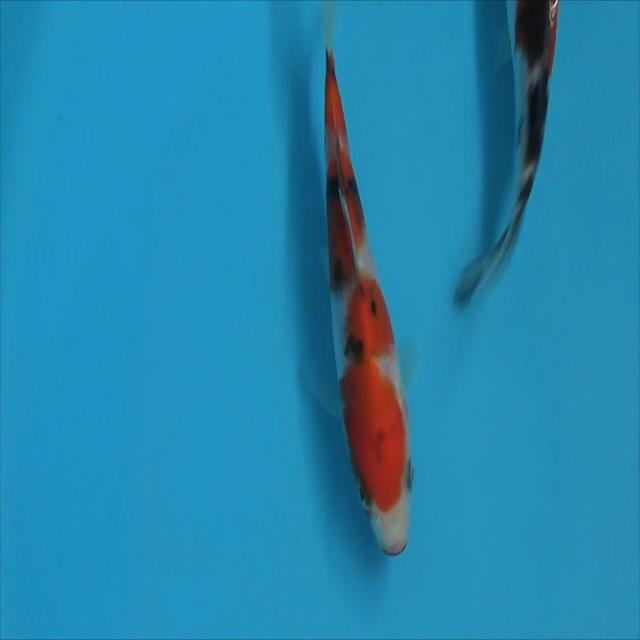Sanke: (302, 43, 414, 557), (452, 0, 559, 311)
